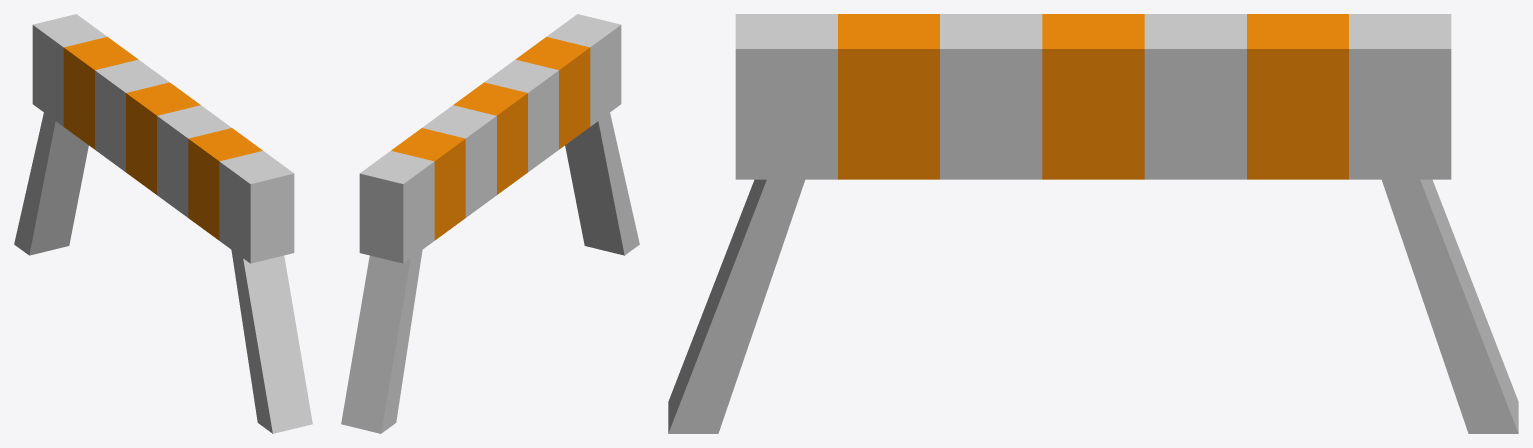
The model's file is rao_chan.fbx.
The picture shows the model from 3 angles, left to right: view 1: azimuth 30°, elevation 25°; view 2: azimuth 150°, elevation 25°; view 3: azimuth 270°, elevation 25°; orthographic projection. The views are drawn at different scales.
Visible parts, largest first — view 1: Cube; view 2: Cube; view 3: Cube.
Boxes of the visible parts, bbox=[...] form: Cube: bbox=[14, 14, 312, 433]; Cube: bbox=[341, 14, 639, 433]; Cube: bbox=[668, 14, 1518, 433].
Bounding box in the file's own units: 115 × 592 × 1181.
